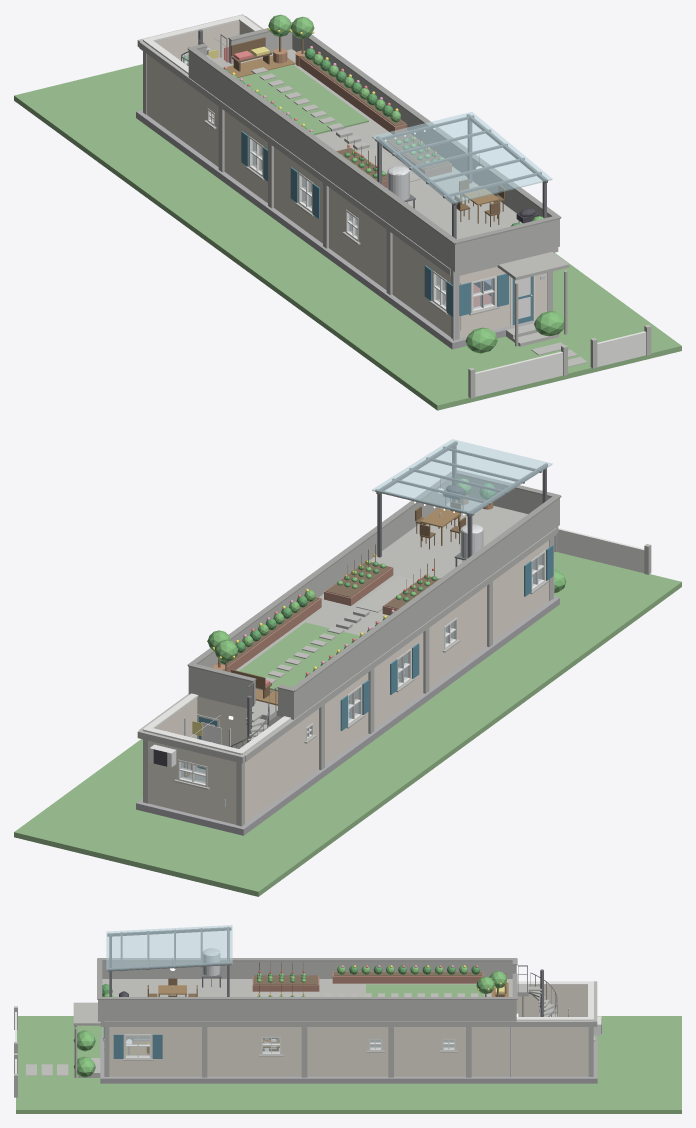
File: house_tube.glb
The picture shows the model from 3 angles, top to bottom: view 1: azimuth 30°, elevation 25°; view 2: azimuth 150°, elevation 25°; view 3: azimuth 270°, elevation 25°; orthographic projection. The views are drawn at different scales.
Parts seen in each view (by area): view 1: grass, concrete, wall, pergola_panel, trim, concrete_dark, foundation, stone, steel_dark, green, door, brick (+6 smaller); view 2: grass, concrete, wall, pergola_panel, trim, foundation, concrete_dark, steel_dark, stone, green, brick, door (+5 smaller); view 3: grass, concrete, wall, pergola_panel, foundation, concrete_dark, steel_dark, stone, trim, brick, green, soil (+6 smaller).
Part boxes in pixels (x1,y1,x2,y2): grass: [14, 55, 681, 410]; concrete: [137, 14, 569, 346]; wall: [146, 21, 547, 338]; pergola_panel: [372, 112, 552, 204]; trim: [143, 15, 646, 396]; concrete_dark: [187, 22, 561, 244]; foundation: [136, 110, 535, 349]; stone: [204, 67, 651, 398]; steel_dark: [181, 29, 547, 238]; green: [232, 14, 563, 353]; door: [241, 131, 532, 325]; brick: [299, 57, 451, 187]; grass: [14, 552, 681, 896]; concrete: [137, 474, 559, 826]; wall: [148, 540, 549, 824]; pergola_panel: [372, 439, 552, 514]; trim: [143, 528, 644, 787]; foundation: [136, 596, 559, 835]; concrete_dark: [187, 470, 561, 691]; steel_dark: [230, 441, 547, 748]; stone: [174, 535, 651, 789]; green: [207, 478, 566, 671]; brick: [215, 562, 438, 672]; door: [198, 545, 553, 769]; grass: [16, 984, 681, 1113]; concrete: [73, 961, 597, 1077]; wall: [109, 985, 588, 1076]; pergola_panel: [106, 925, 232, 970]; foundation: [100, 1037, 597, 1083]; concrete_dark: [97, 958, 517, 999]; steel_dark: [107, 926, 557, 1016]; stone: [14, 992, 595, 1097]; trim: [15, 981, 593, 1073]; brick: [252, 971, 483, 991]; green: [73, 965, 507, 1077]; soil: [253, 972, 482, 984].
Size of the model in its own units: 10 by 6.1 by 30.09.
